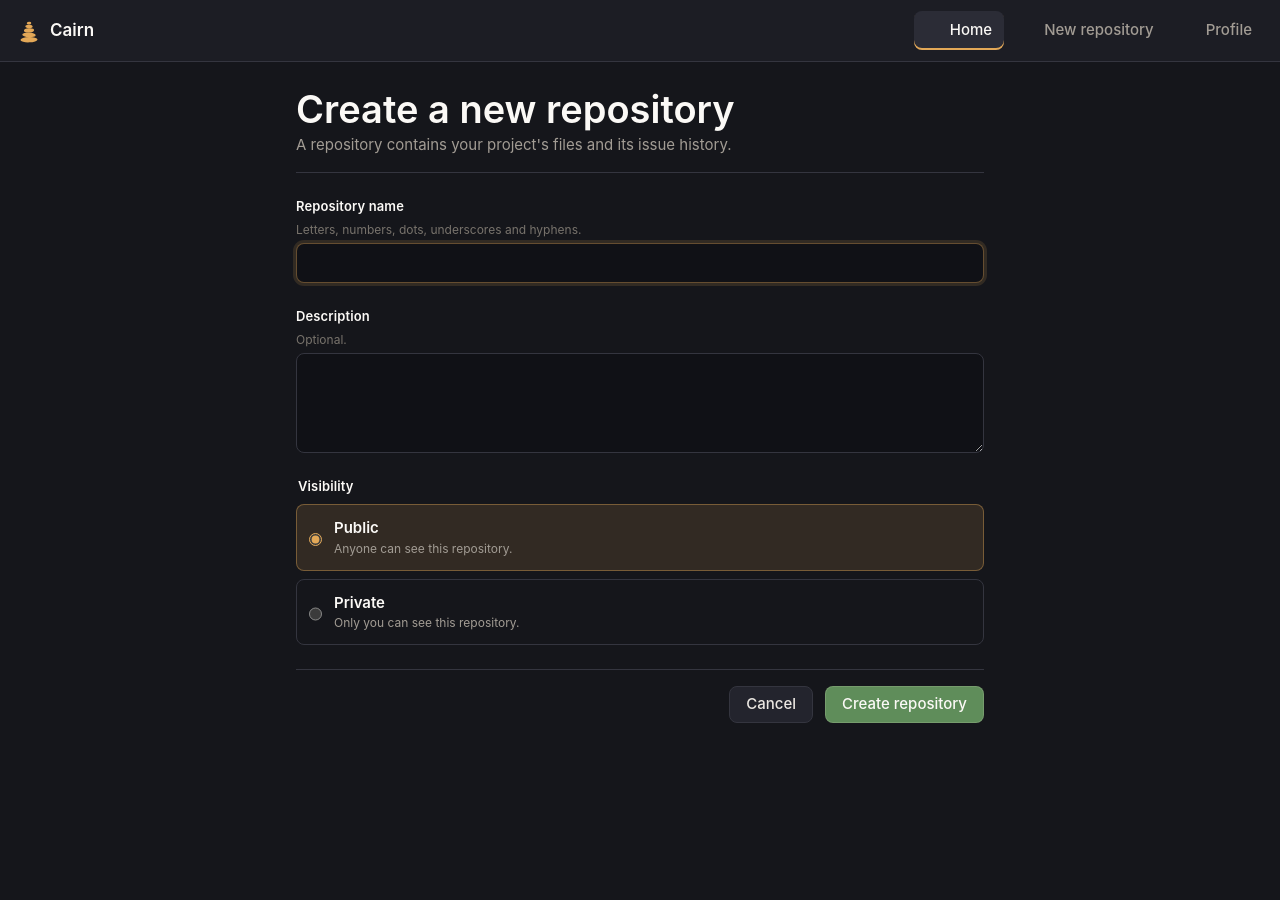
Test: CreateRepository › surfaces a server-side field error on the field itself
The width and height of the screenshot is (1280, 900).
Type "taken-name" into the field labelled "Repository name" at (640, 263), box [296,242,984,283]
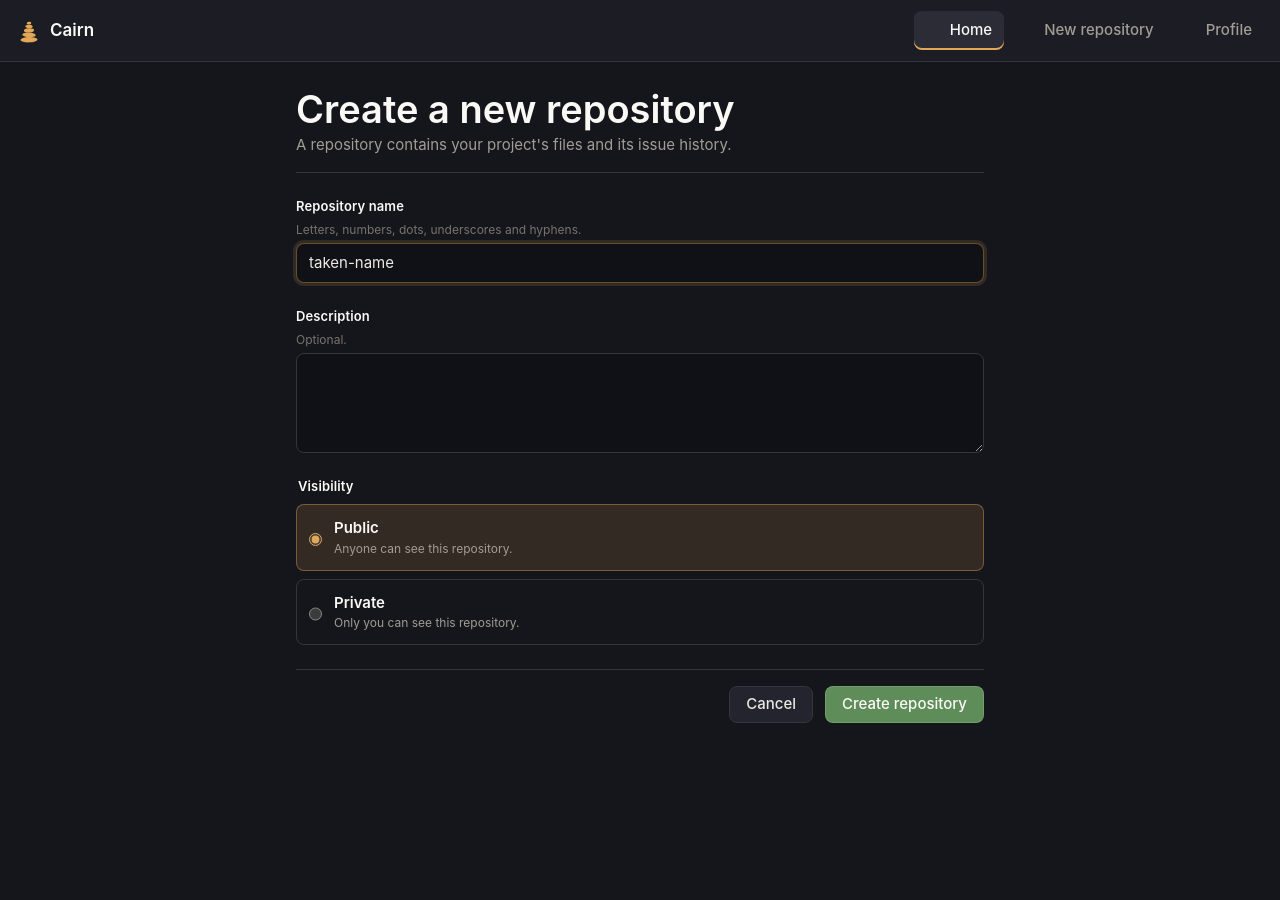
Click the button "Create repository" at (904, 704), box [825,686,984,722]
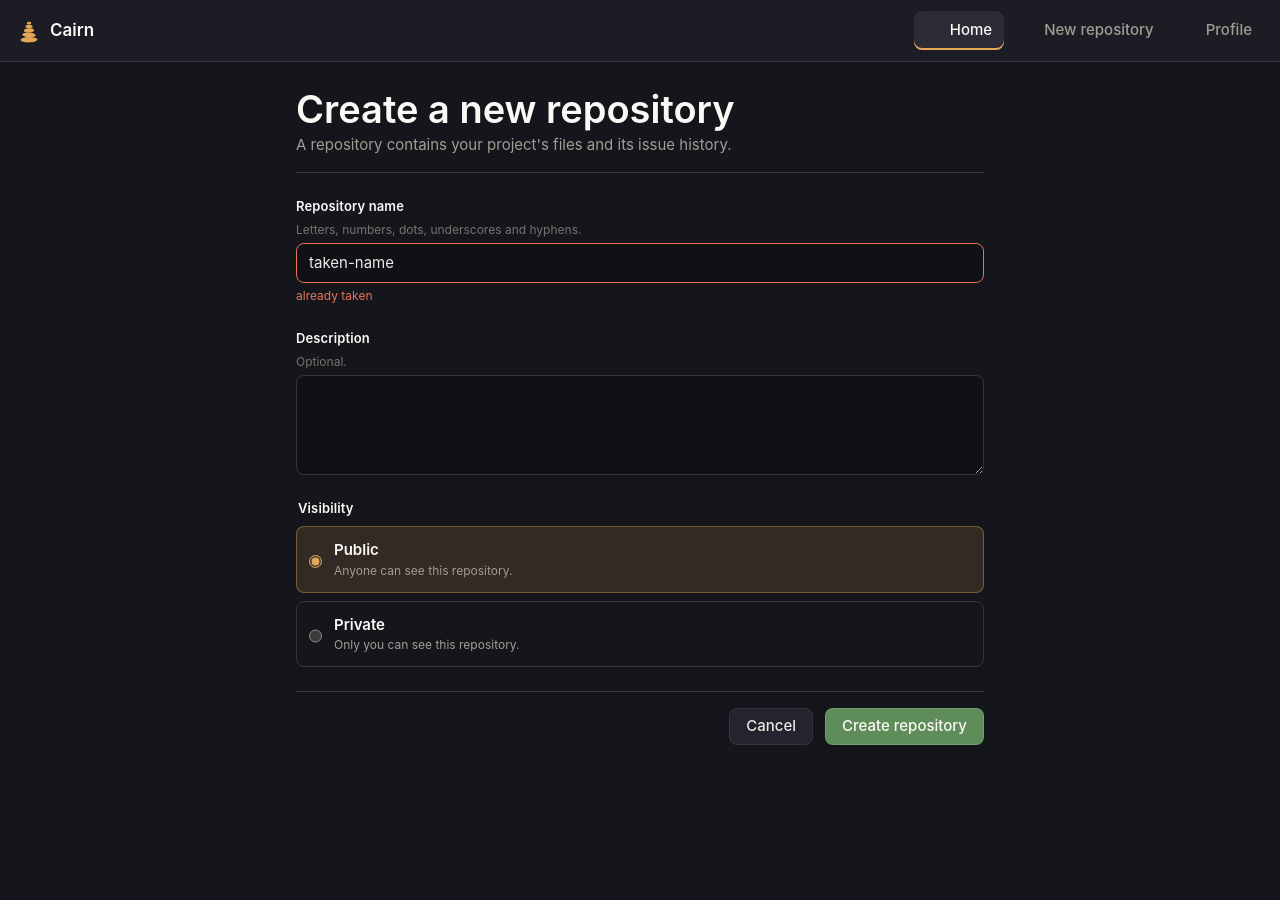
expect the text "already taken" is shown: met, box [296,288,372,303]
